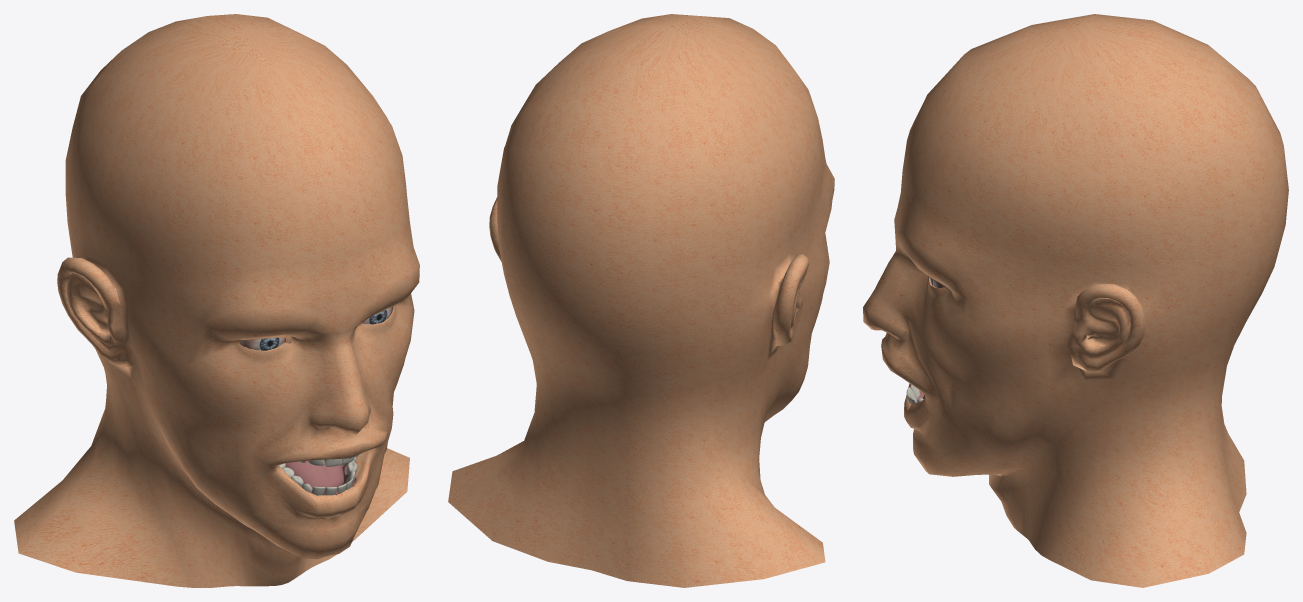
File: yeah.FBX
3 views of the same model, side by side, from view 1: azimuth 30°, elevation 25°; view 2: azimuth 150°, elevation 25°; view 3: azimuth 270°, elevation 25° (orthographic). The views are drawn at different scales.
Parts seen in each view (by area): view 1: head, gums; view 2: head; view 3: head.
Part boxes in pixels (bbox=[...]): head: bbox=[14, 14, 419, 587]; gums: bbox=[285, 459, 356, 495]; head: bbox=[448, 14, 834, 587]; head: bbox=[863, 14, 1288, 587].
Bounding box in the file's own units: 44.22 × 43.6 × 56.51.
4 materials, 2 textured.
